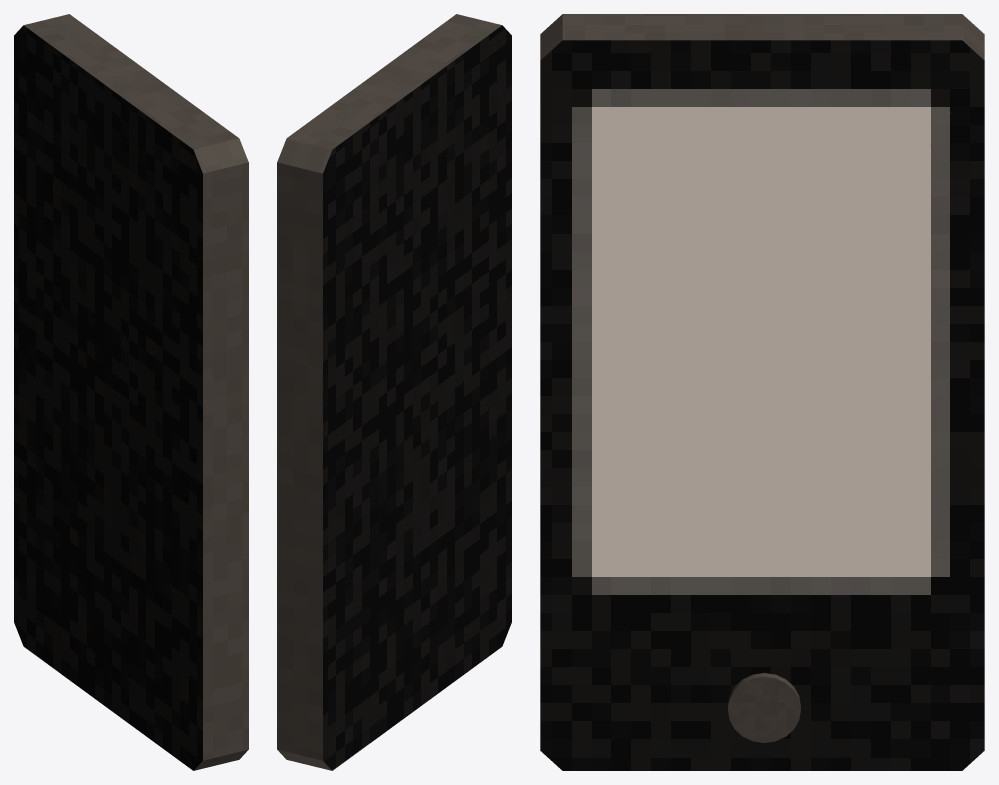
Rendered from MOBILE.fbx.
The picture shows the model from 3 angles, left to right: view 1: azimuth 30°, elevation 25°; view 2: azimuth 150°, elevation 25°; view 3: azimuth 270°, elevation 25°; orthographic projection. The views are drawn at different scales.
Visible parts, largest first — view 1: telephone:pCube40; view 2: telephone:pCube40; view 3: telephone:pCube40.
Boxes of the visible parts, x1,y1,x2,y2 form: telephone:pCube40: [14, 14, 248, 770]; telephone:pCube40: [277, 14, 511, 770]; telephone:pCube40: [540, 14, 984, 770].
Size of the model in its own units: 5.24 by 59.09 by 32.54.
